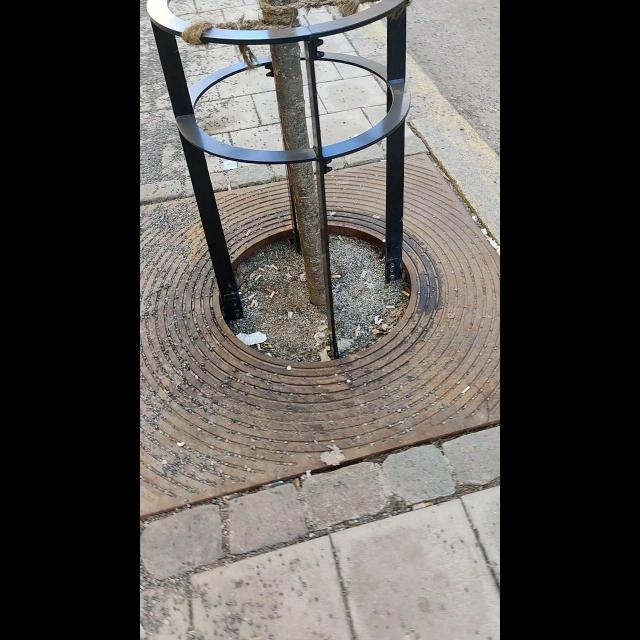cigarette: (317, 324, 328, 332), (463, 386, 470, 395), (287, 312, 294, 320), (402, 290, 410, 296), (246, 230, 252, 237), (373, 214, 381, 219), (386, 304, 396, 308), (272, 264, 278, 270), (270, 292, 276, 298), (258, 343, 262, 351), (331, 275, 341, 278), (250, 299, 253, 309), (354, 330, 358, 337), (258, 268, 264, 272)
